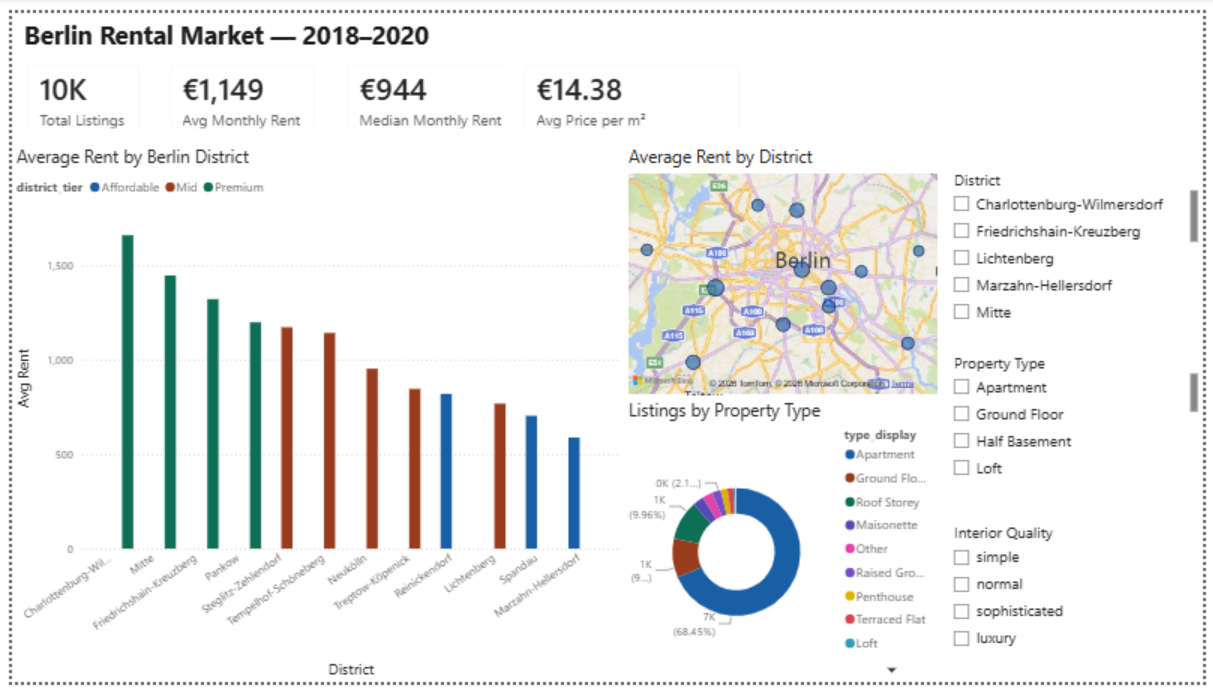

The page's visual inventory and layout, read from the dashboard file:
{"tool":"powerbi","page":{"name":"Market Overview","canvas":[1280,720],"ordinal":0},"visuals":[{"type":"textbox","box":[8.6,0,935.7,50],"z":0},{"type":"cardVisual","fields":{"Data":["fact_listings.Total Listings"]},"box":[0,39,154,103],"z":1000},{"type":"cardVisual","fields":{"Data":["fact_listings.Avg Rent Display"]},"box":[154,39,189,103],"z":2000},{"type":"cardVisual","fields":{"Data":["fact_listings.Median Rent Display"]},"box":[343,39,211,103],"z":3000},{"type":"cardVisual","fields":{"Data":["fact_listings.Avg Price per SQM Display"]},"box":[533.3,38.3,265,103.3],"z":4000},{"type":"clusteredColumnChart","title":"Average Rent by Berlin District","fields":{"Category":["dim_Bezirk.bezirk"],"Y":["fact_listings.Avg Rent"],"Series":["dim_Bezirk.district_tier"]},"box":[0,141.7,658.3,578.3],"z":5000},{"type":"map","title":"Average Rent by District","fields":{"Size":["fact_listings.Avg Rent"],"Category":["dim_Bezirk.bezirk"]},"box":[658.3,141.7,341.7,273.3],"z":6000},{"type":"slicer","fields":{"Values":["dim_Bezirk.bezirk"]},"box":[1000,163.3,280,171.7],"z":7000},{"type":"slicer","fields":{"Values":["dim_PropertyType.type_display"]},"box":[1000,360,280,143.3],"z":8000},{"type":"slicer","fields":{"Values":["dim_InteriorQual.interiorQual"]},"box":[1000,541.7,280,151.7],"z":9000},{"type":"donutChart","title":"Listings by Property Type","fields":{"Category":["dim_PropertyType.type_display"],"Y":["fact_listings.Total Listings"]},"box":[658.3,415,341.7,305],"z":10000}]}

Visuals, with their boxes in screenshot pixels (x1, y1, x2, y2), scaled from the page's 1280x720 canvas onto the 1213x693 screenshot:
textbox: left=8, top=0, right=895, bottom=48
cardVisual - fact_listings.Total Listings: left=0, top=38, right=146, bottom=137
cardVisual - fact_listings.Avg Rent Display: left=146, top=38, right=325, bottom=137
cardVisual - fact_listings.Median Rent Display: left=325, top=38, right=525, bottom=137
cardVisual - fact_listings.Avg Price per SQM Display: left=505, top=37, right=757, bottom=136
"Average Rent by Berlin District" clusteredColumnChart: left=0, top=136, right=624, bottom=692
"Average Rent by District" map: left=624, top=136, right=948, bottom=399
slicer - dim_Bezirk.bezirk: left=948, top=157, right=1212, bottom=322
slicer - dim_PropertyType.type_display: left=948, top=346, right=1212, bottom=484
slicer - dim_InteriorQual.interiorQual: left=948, top=521, right=1212, bottom=667
"Listings by Property Type" donutChart: left=624, top=399, right=948, bottom=692
